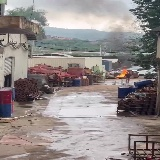fire: (116, 69, 127, 77)
